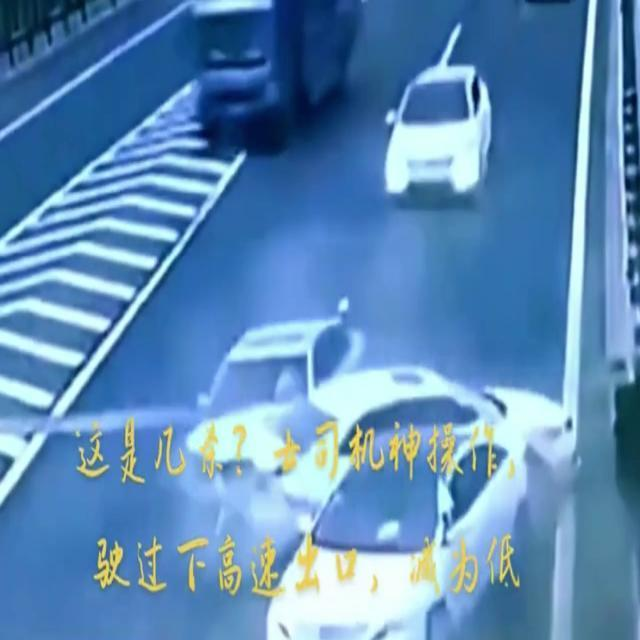accident: (179, 298, 589, 640)
